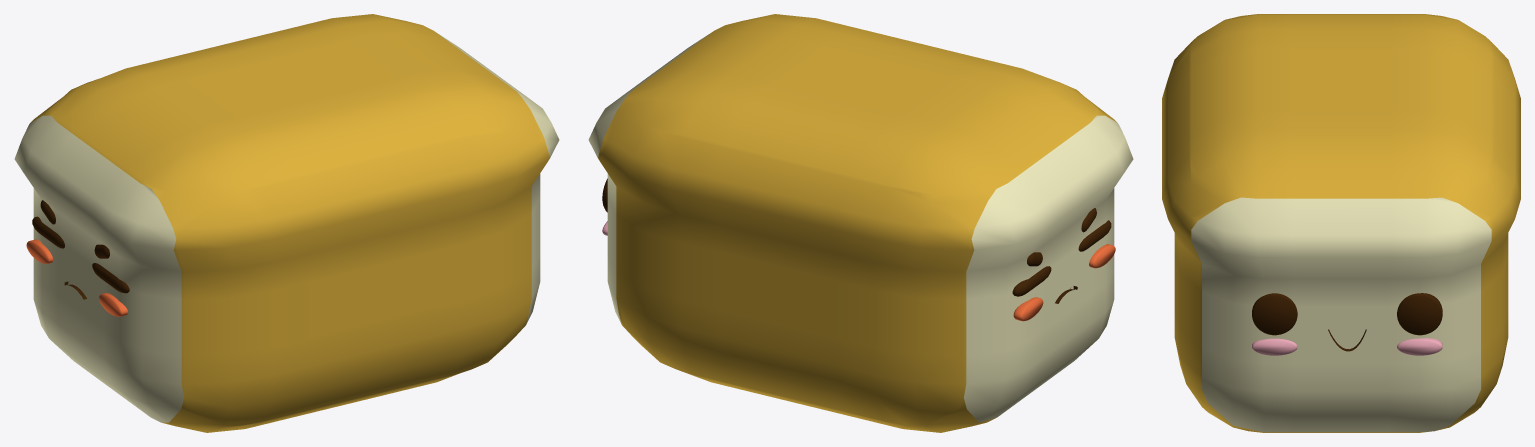
File: toast.fbx
The picture shows the model from 3 angles, left to right: view 1: azimuth 30°, elevation 25°; view 2: azimuth 150°, elevation 25°; view 3: azimuth 270°, elevation 25°; orthographic projection.
Parts seen in each view (by area): view 1: Mball.003; view 2: Mball.003; view 3: Mball.003.
Boxes of the visible parts, bbox=[...] form: Mball.003: bbox=[14, 14, 559, 432]; Mball.003: bbox=[588, 14, 1133, 432]; Mball.003: bbox=[1162, 14, 1520, 432].
Size of the model in its own units: 615 by 385 by 430.
